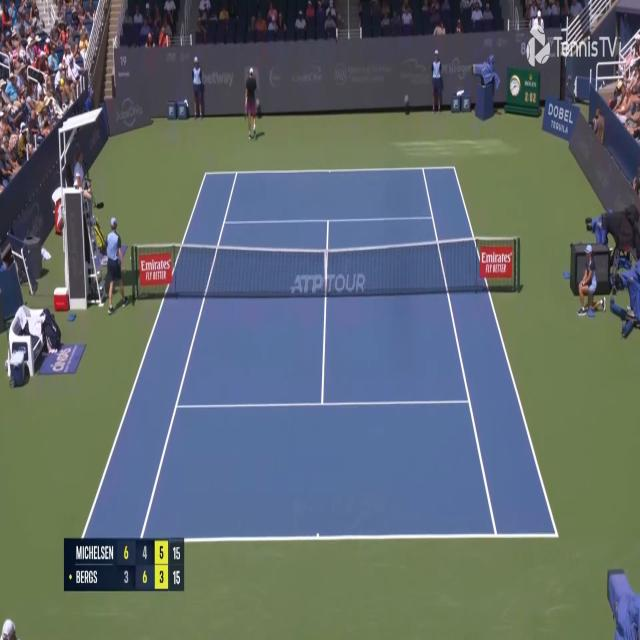tennis-player: (243, 65, 262, 141)
